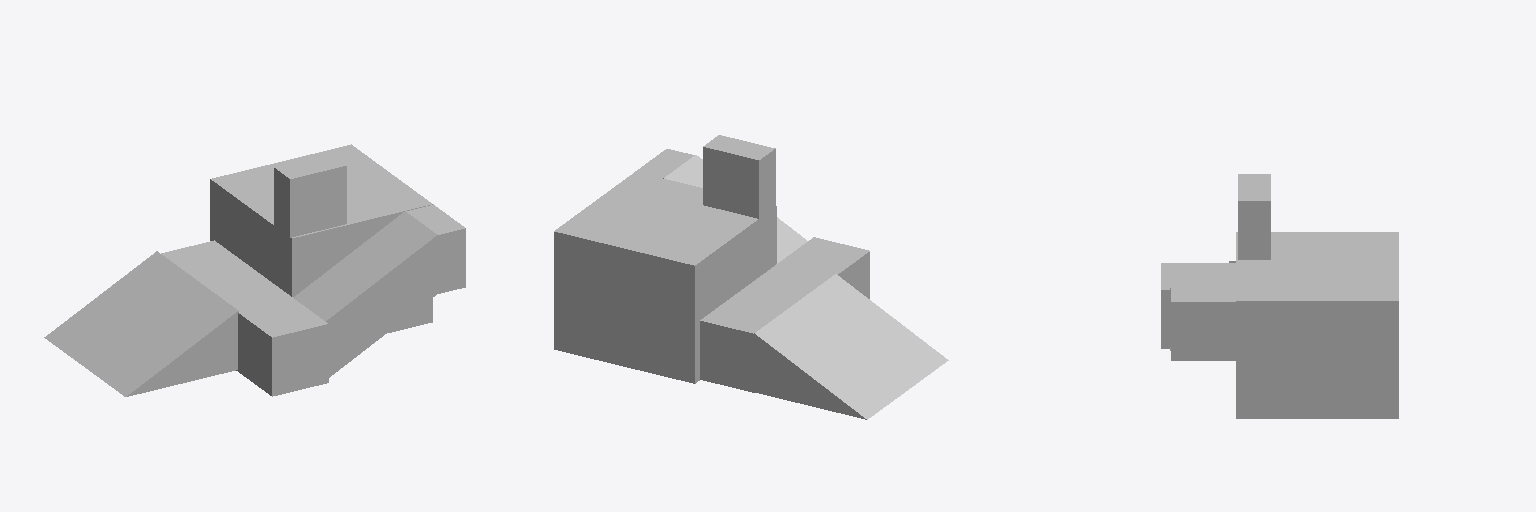
Rendered from rampa esquina zona roja.obj.
3 views of the same model, side by side, from view 1: azimuth 30°, elevation 25°; view 2: azimuth 150°, elevation 25°; view 3: azimuth 270°, elevation 25° (orthographic).
Visible parts, largest first — view 1: pCube12, pCube16, pCube14, pCube13, pCube17, pCube15; view 2: pCube16, pCube12, pCube13, pCube17, pCube14, pCube15; view 3: pCube16, pCube15, pCube17, pCube13.
Boxes of the visible parts, x1=… form: pCube12: x1=44, y1=251, x2=238, y2=396; pCube16: x1=210, y1=144, x2=432, y2=332; pCube14: x1=293, y1=211, x2=437, y2=377; pCube13: x1=161, y1=240, x2=328, y2=396; pCube17: x1=274, y1=154, x2=346, y2=237; pCube15: x1=406, y1=204, x2=465, y2=293; pCube16: x1=554, y1=172, x2=776, y2=383; pCube12: x1=754, y1=274, x2=948, y2=419; pCube13: x1=700, y1=237, x2=869, y2=392; pCube17: x1=703, y1=135, x2=775, y2=219; pCube14: x1=663, y1=155, x2=807, y2=263; pCube15: x1=635, y1=149, x2=694, y2=177; pCube16: x1=1236, y1=232, x2=1398, y2=418; pCube15: x1=1171, y1=288, x2=1235, y2=360; pCube17: x1=1238, y1=174, x2=1270, y2=259; pCube13: x1=1161, y1=263, x2=1235, y2=348.
Bounding box in the file's own units: 1102 × 601 × 728.